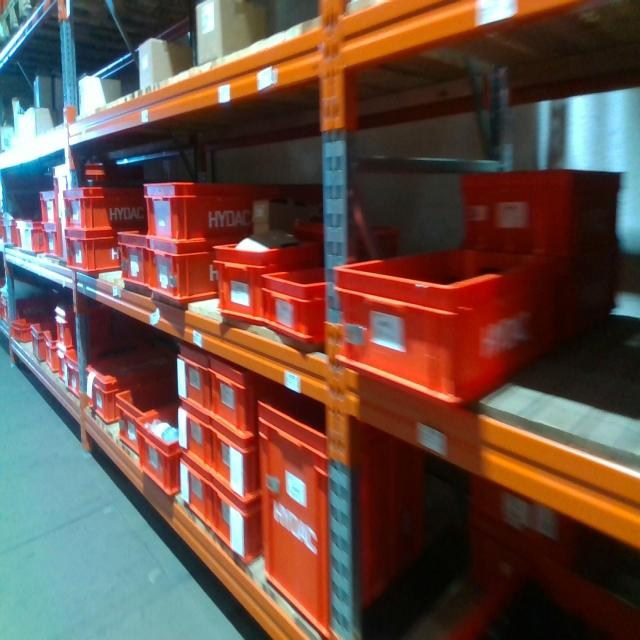pallet: (1, 2, 40, 53)
small_load_carrier: (259, 391, 430, 637), (338, 247, 557, 410), (456, 164, 626, 337), (214, 252, 329, 336), (55, 161, 133, 272), (141, 176, 270, 241), (263, 263, 356, 345), (86, 340, 166, 422), (148, 236, 239, 308), (134, 407, 186, 503), (206, 351, 261, 438), (207, 418, 264, 499), (205, 489, 259, 573), (61, 183, 142, 236), (114, 364, 156, 458), (67, 227, 139, 281), (168, 337, 207, 413), (171, 399, 211, 473), (59, 303, 116, 353), (176, 450, 211, 524), (116, 230, 150, 295), (28, 317, 65, 365), (63, 351, 88, 404), (35, 183, 65, 225), (45, 332, 68, 381), (17, 220, 46, 253), (8, 308, 33, 345), (42, 225, 63, 259)
